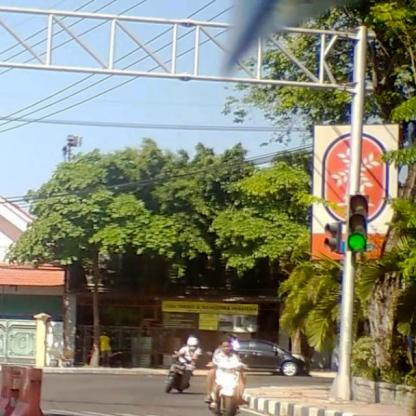Traffic Light -Green-: (348, 194, 368, 254)
